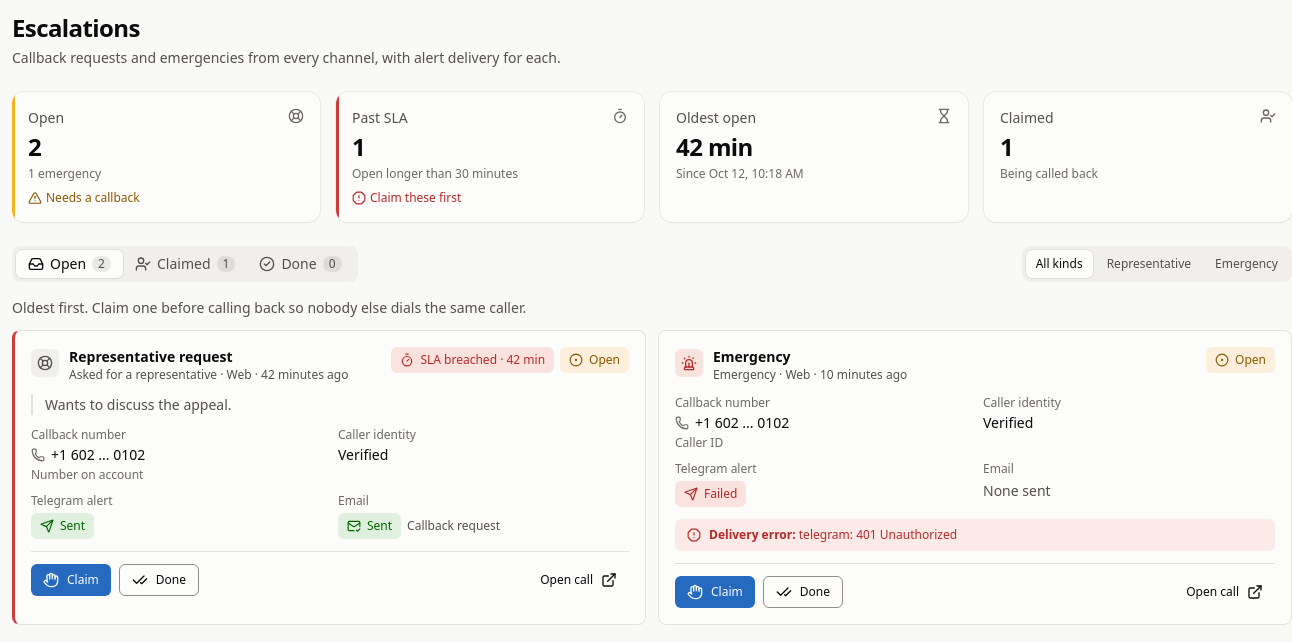
Test case: Escalations › switches to the claimed tab with its count
The width and height of the screenshot is (1292, 642).
Click the tab "Claimed 1": (185, 264) [123,250,247,278]
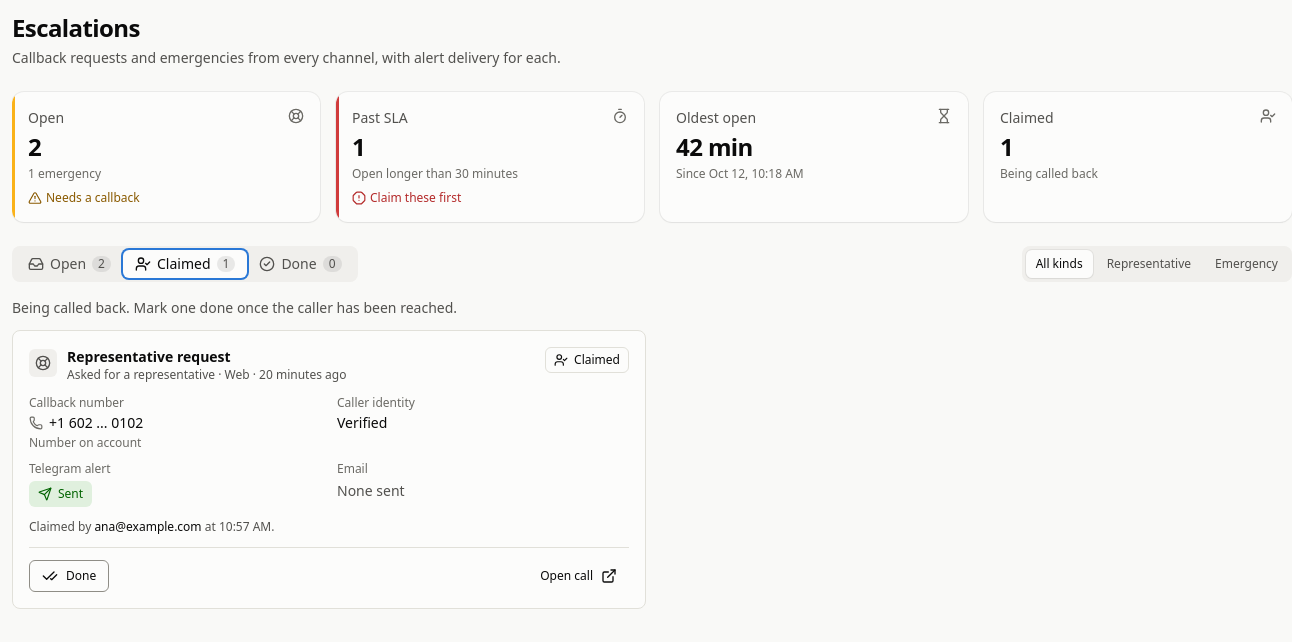
expect the button "Done" is shown: met, box [29,560,109,592]
expect the list named "Claimed escalations, newest first" is shown: met, box [12,330,646,609]
